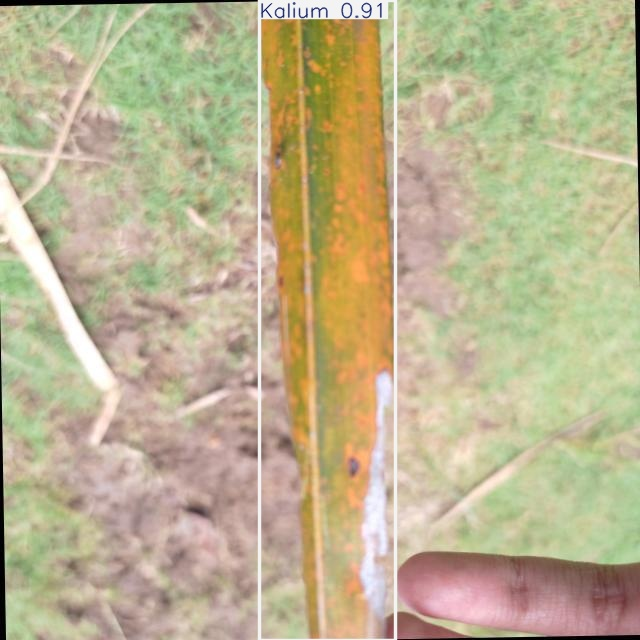Kalium: (260, 0, 396, 640)
